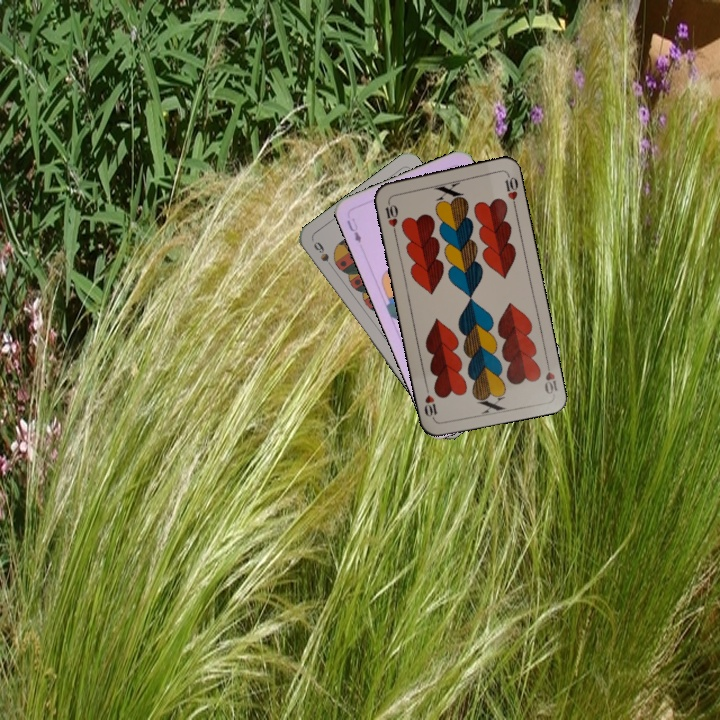EU: (343, 214, 364, 246)
H10: (540, 356, 560, 397), (381, 196, 401, 236)
S9: (309, 238, 338, 273)
